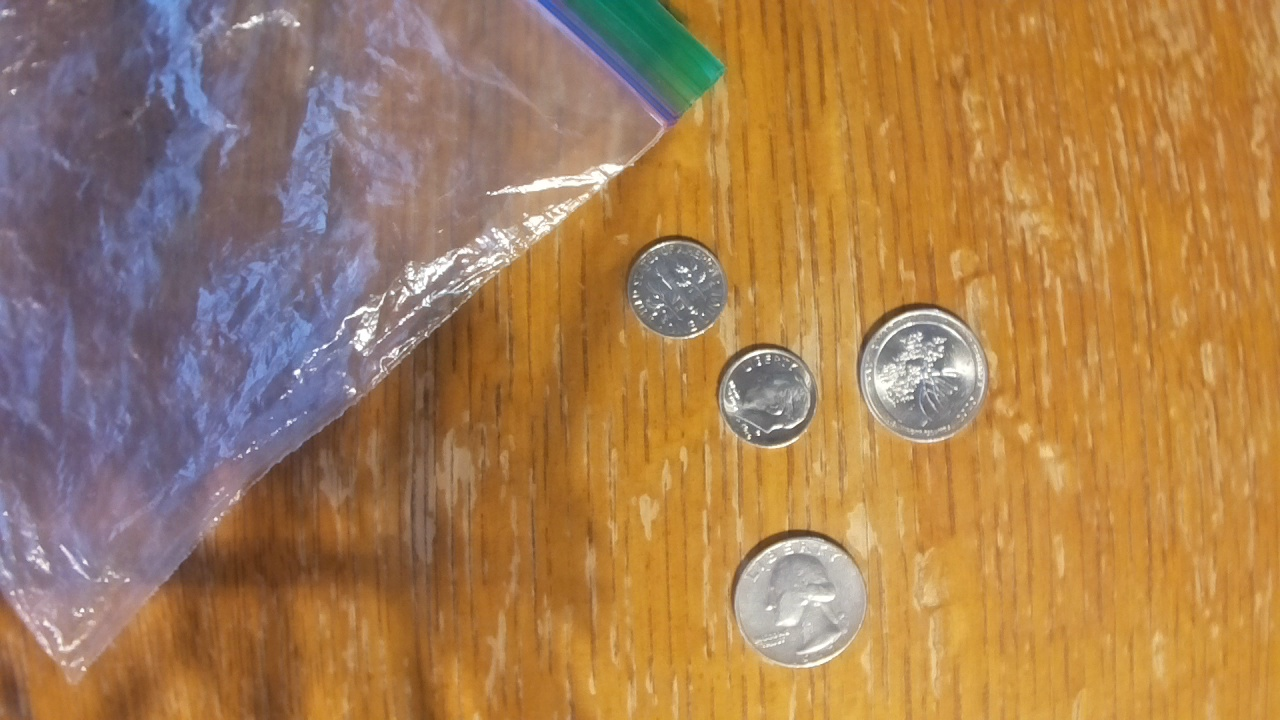dime: (715, 345, 818, 450), (627, 236, 727, 340)
quarter: (731, 532, 870, 669), (860, 305, 988, 443)
